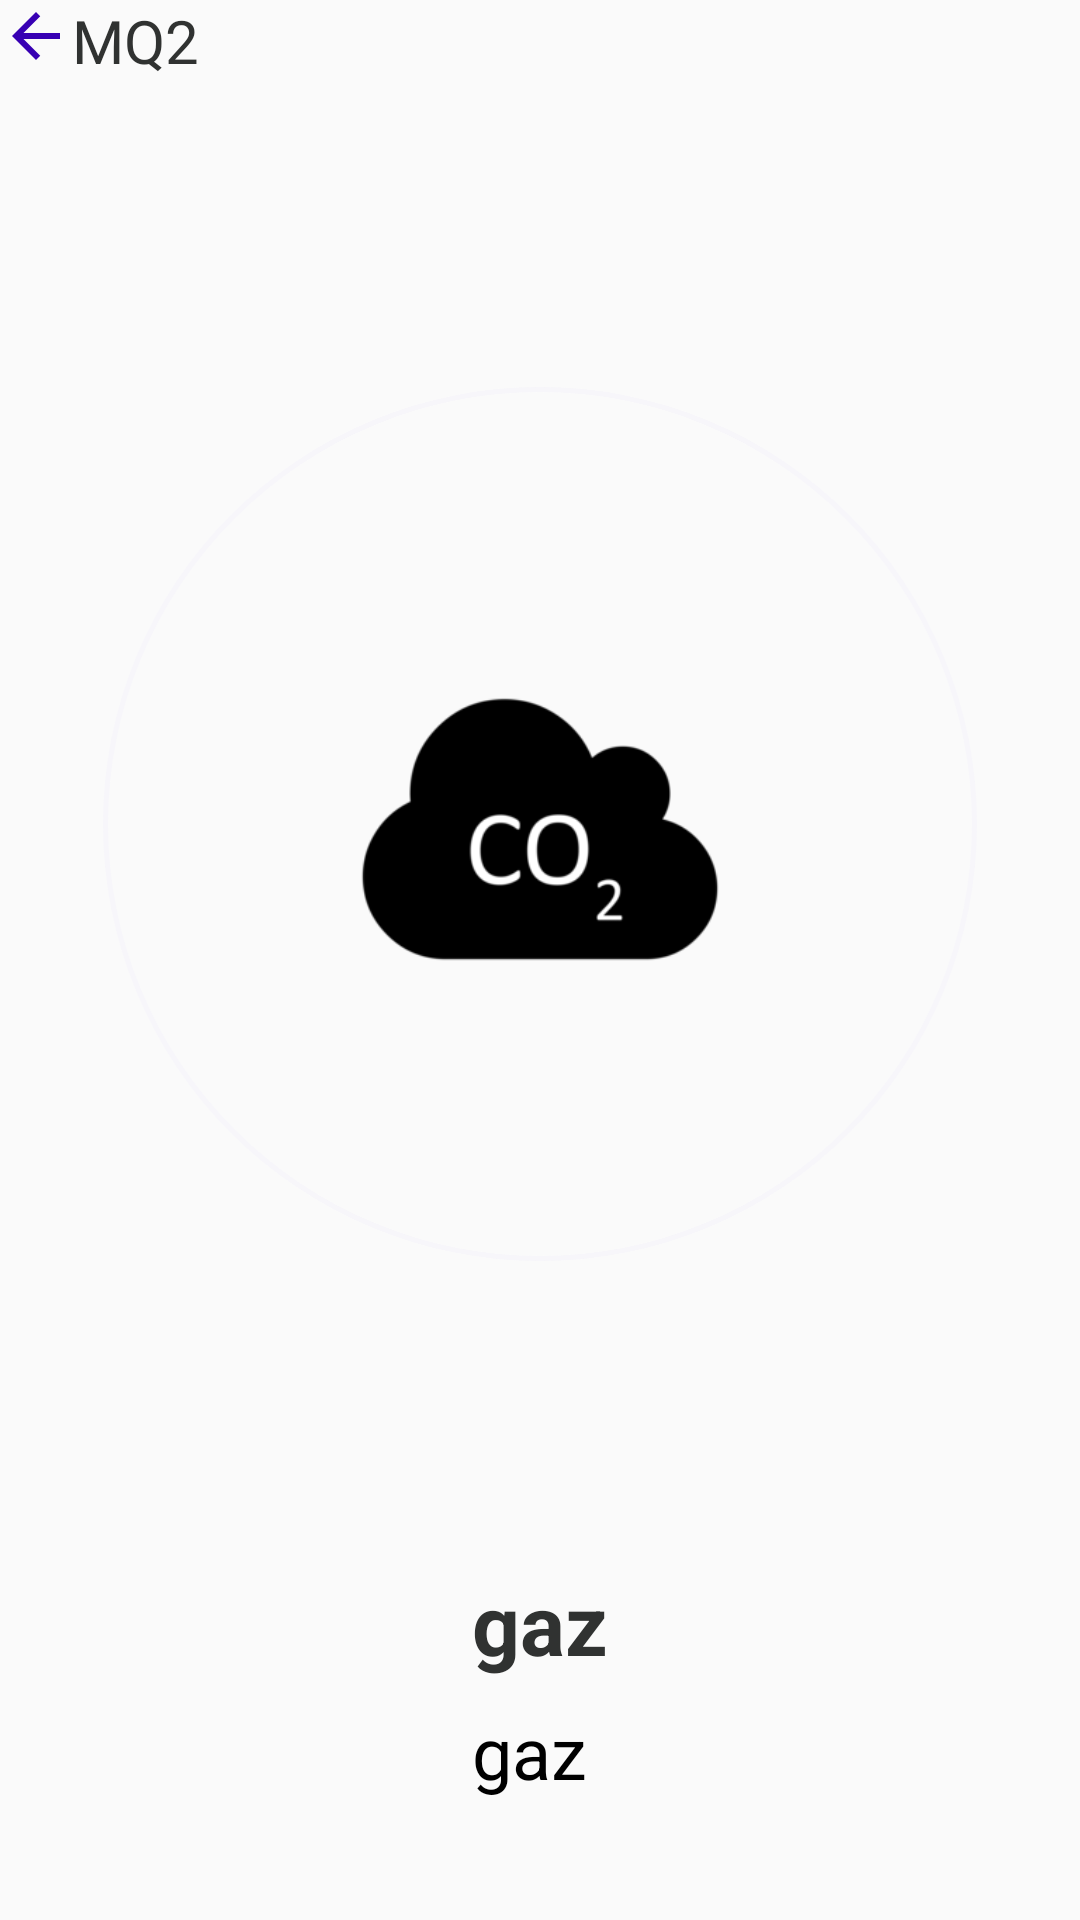

Named icons in this screenshot (1080*1920) and their centers, [x,y]:
arrow back: [36,36]
